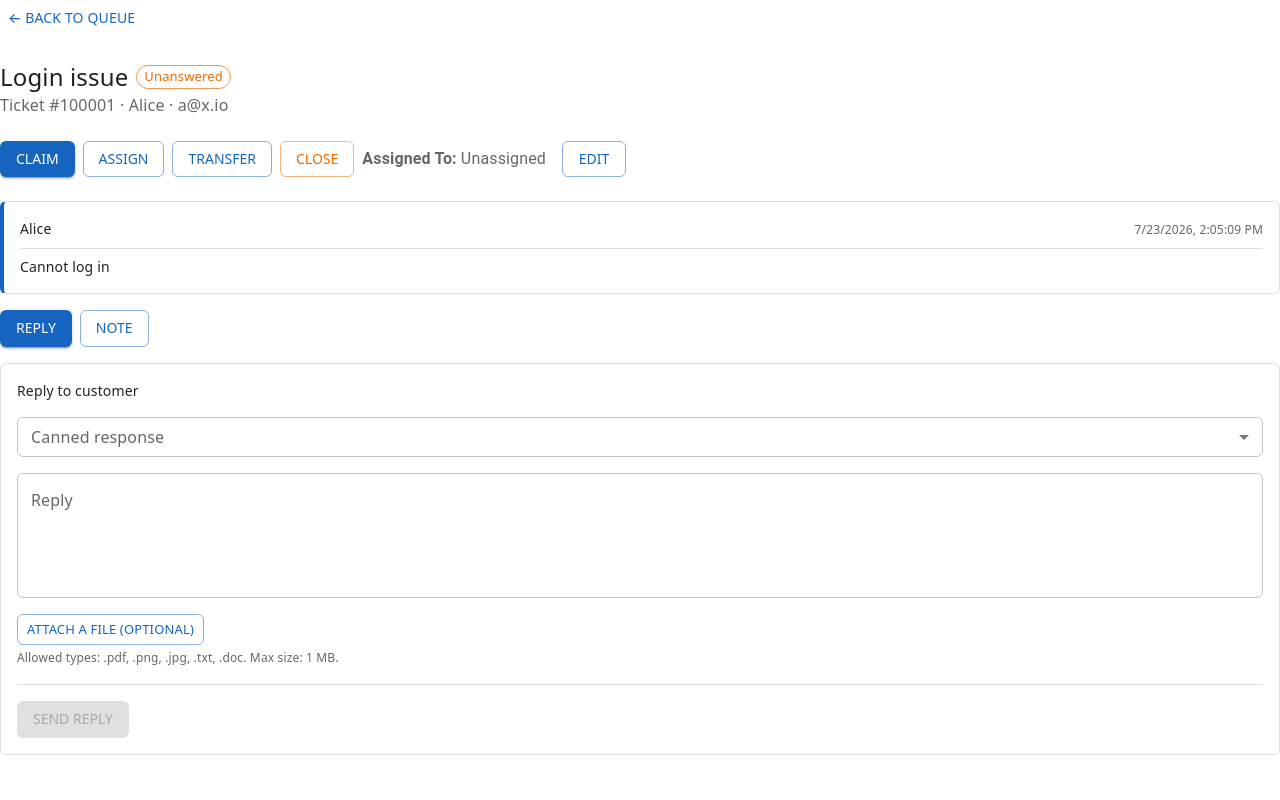
Scenario: Staff UI (TS-M1-C4) › D3: selecting a canned response then sending posts body + cannedId as multipart
Click the dropdown named "canned response": {"x": 640, "y": 438} [17, 418, 1263, 458]
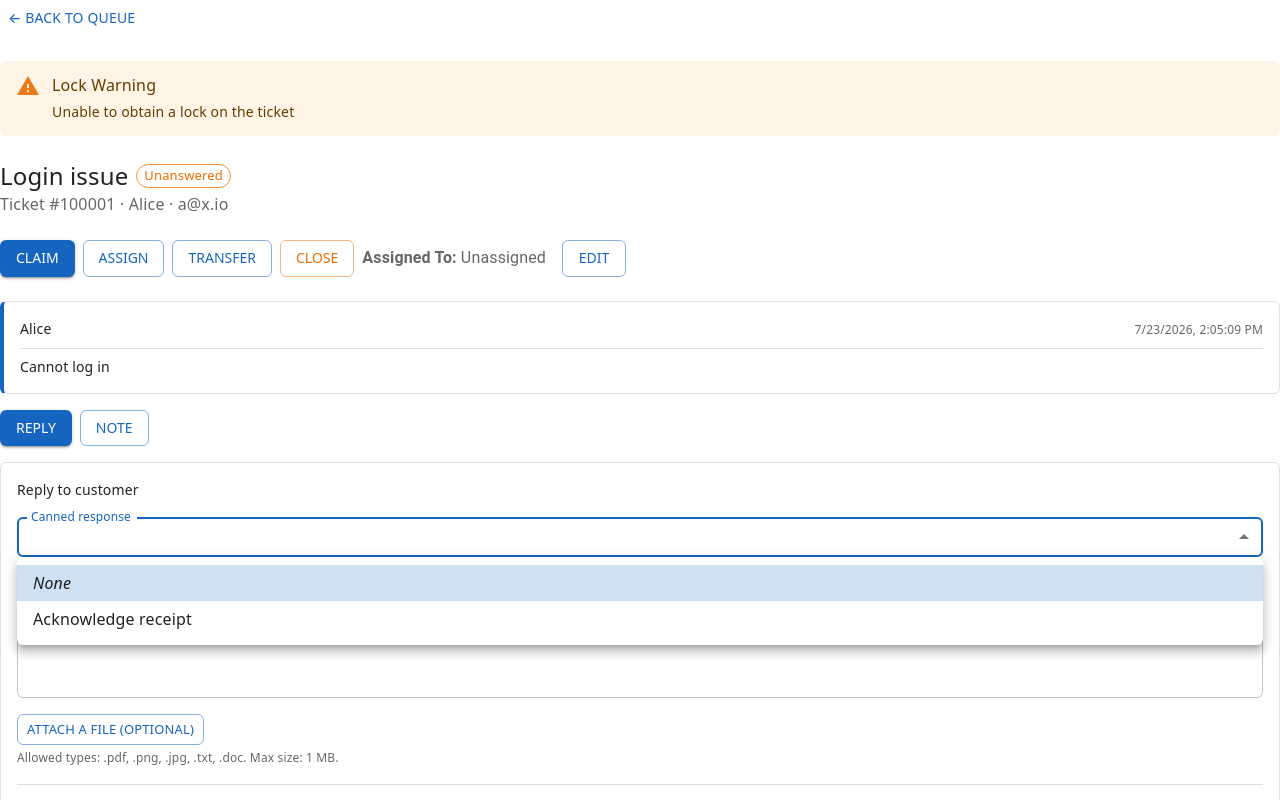
Click the option "Acknowledge receipt": {"x": 112, "y": 619} [33, 608, 192, 630]
(page scrolled)
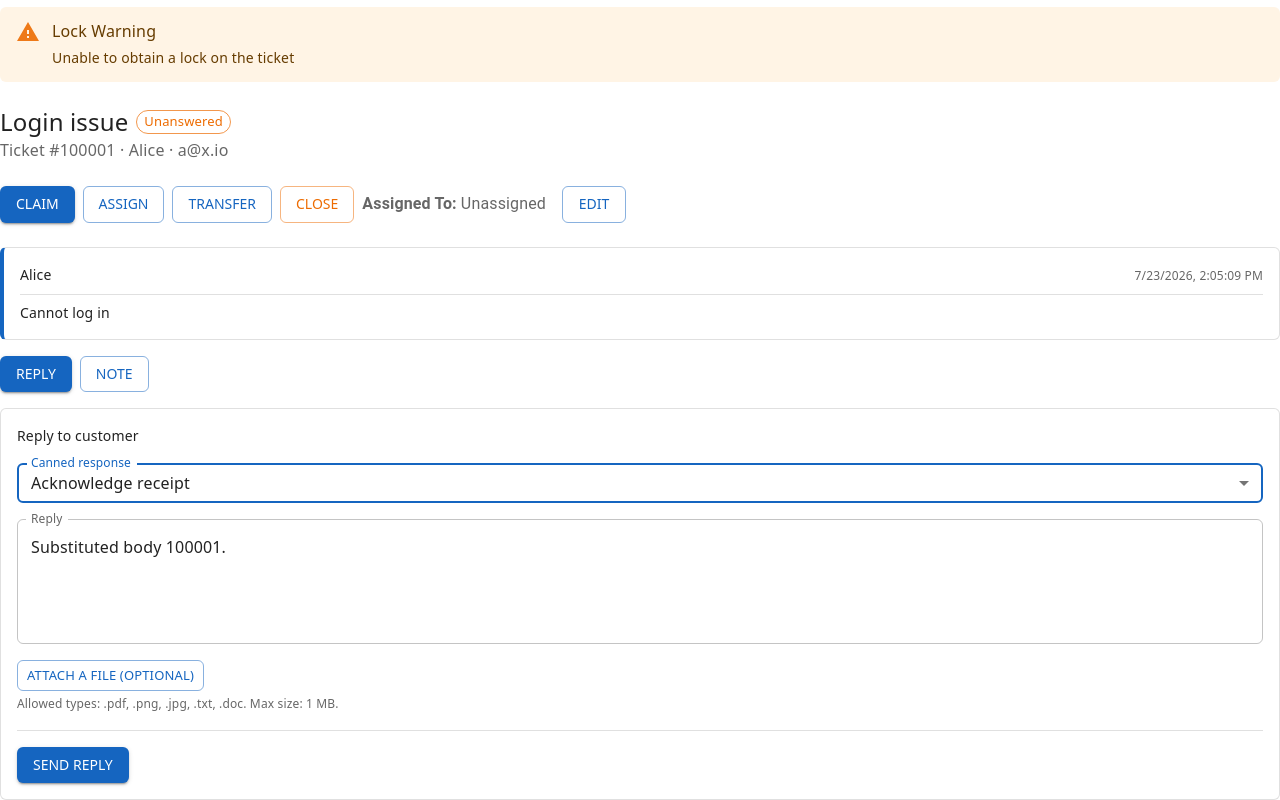
Result: the text box with test id "reply-textarea" holds "Substituted body 100001." at [31, 536, 1249, 628]
Click the button "Send Reply": {"x": 73, "y": 765} [17, 747, 129, 783]
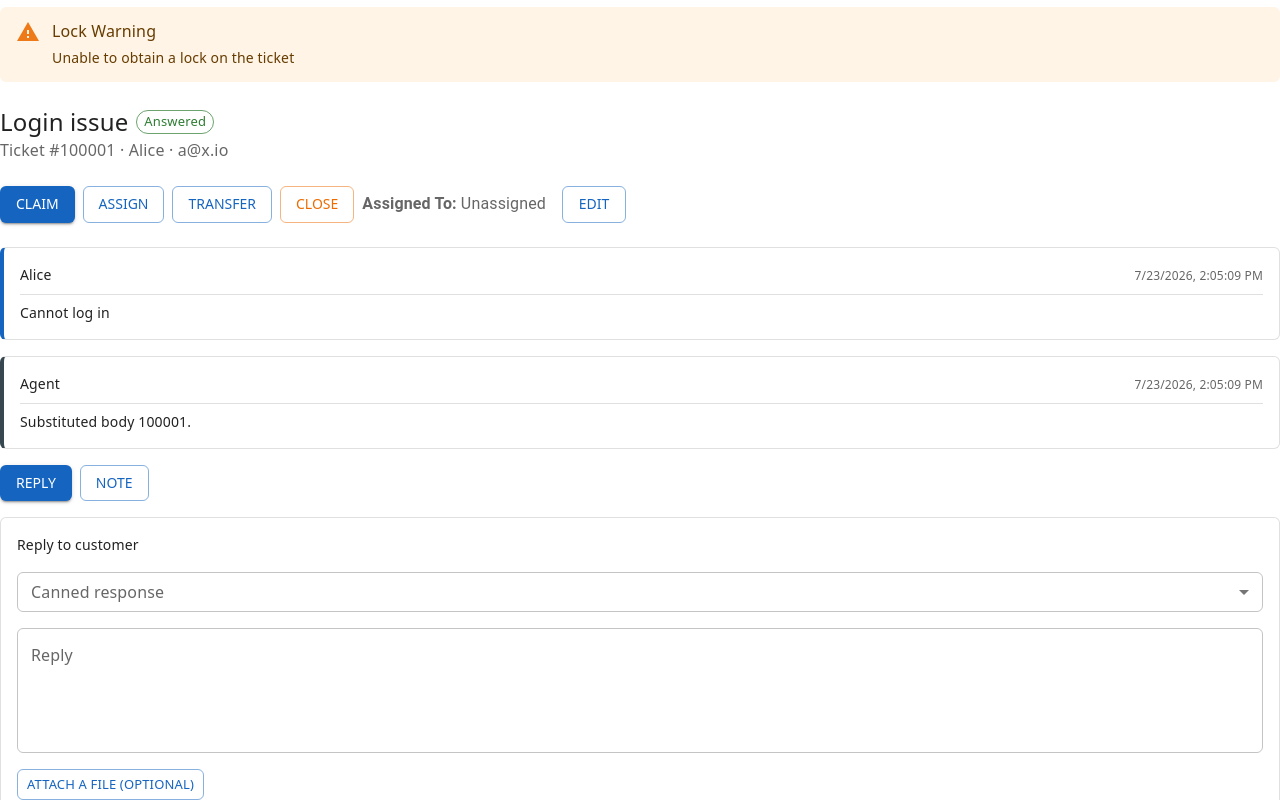
Result: the text "Substituted body 100001." is shown at [20, 412, 191, 431]
